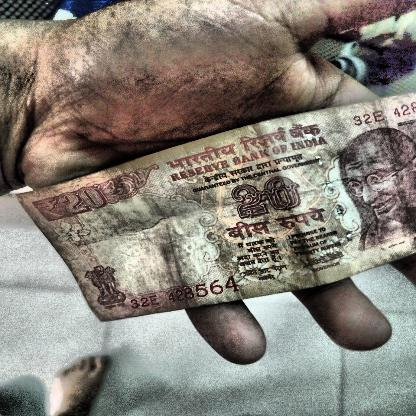Rs20: (215, 169, 319, 232), (20, 179, 126, 227)
